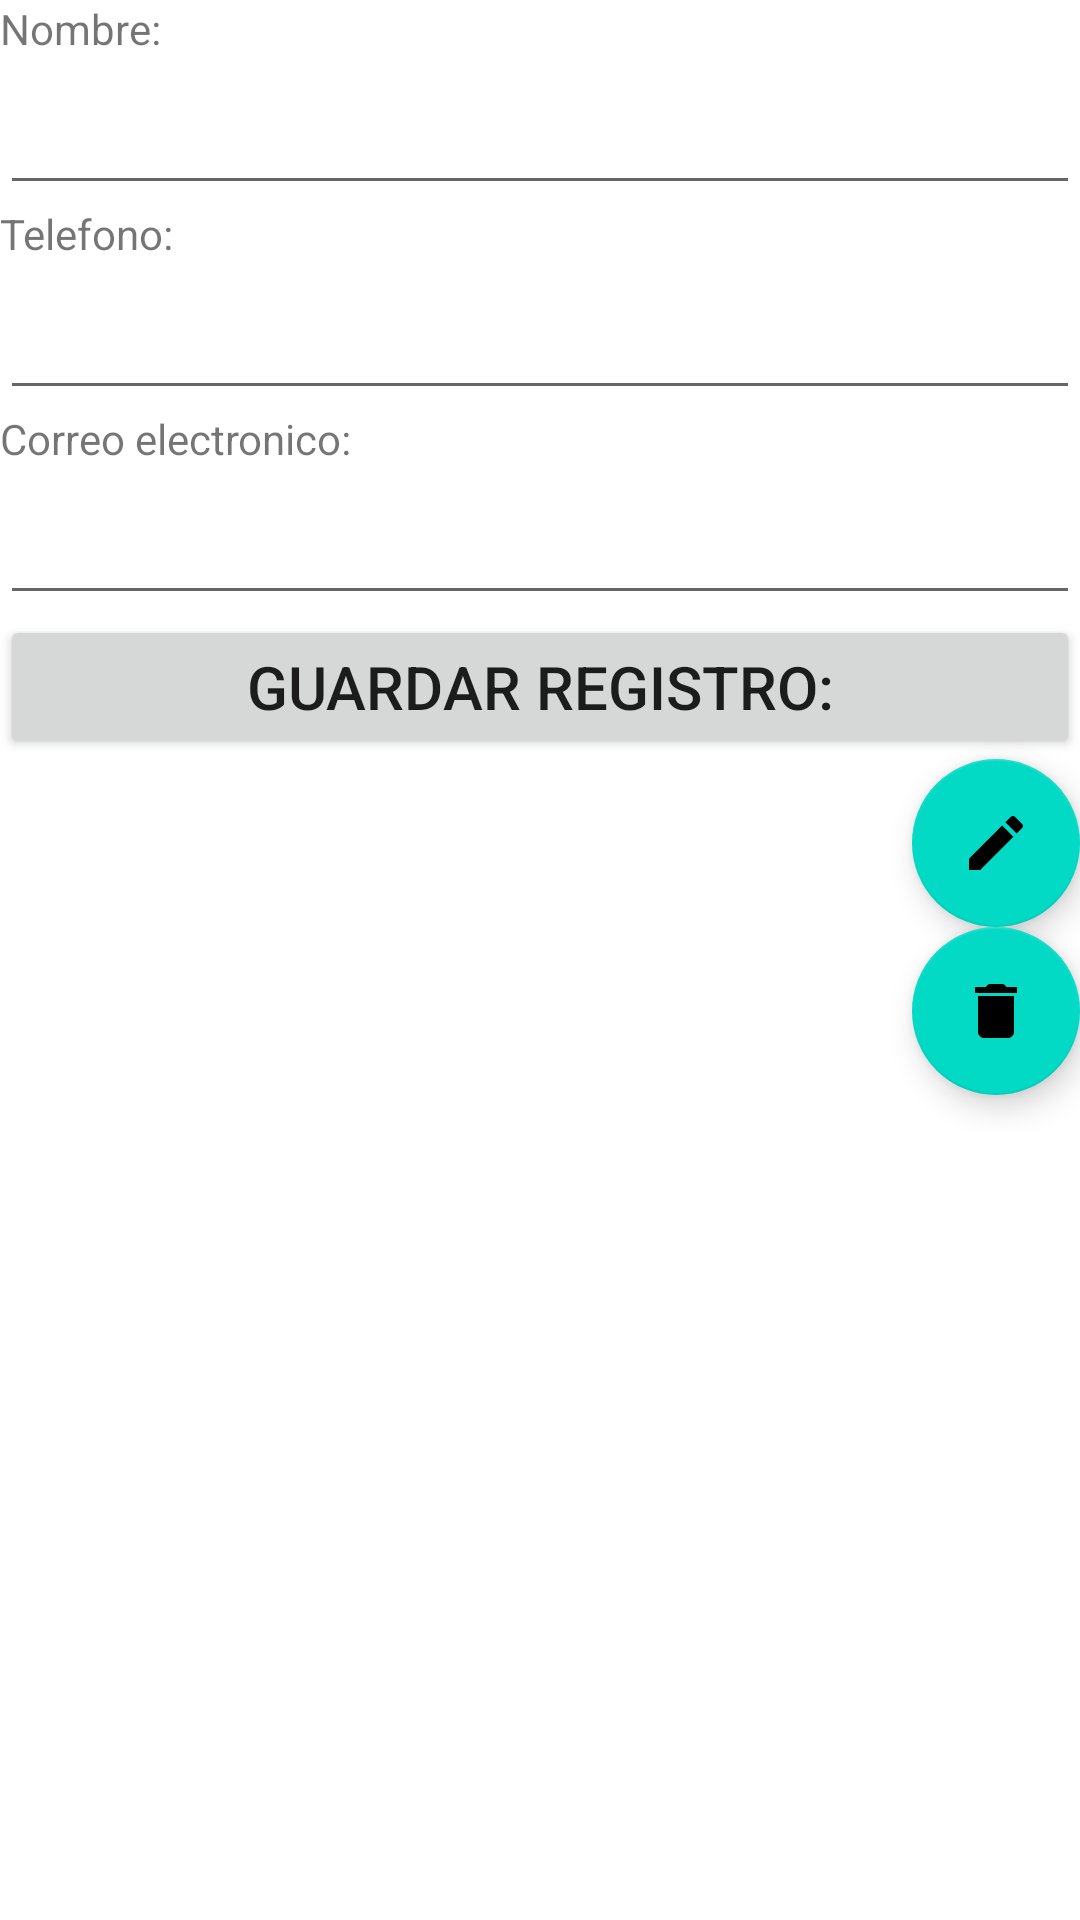

Named icons in this screenshot (1080*1920) and their centers, [x,y]:
delete: [996,1011]
edit: [996,843]
